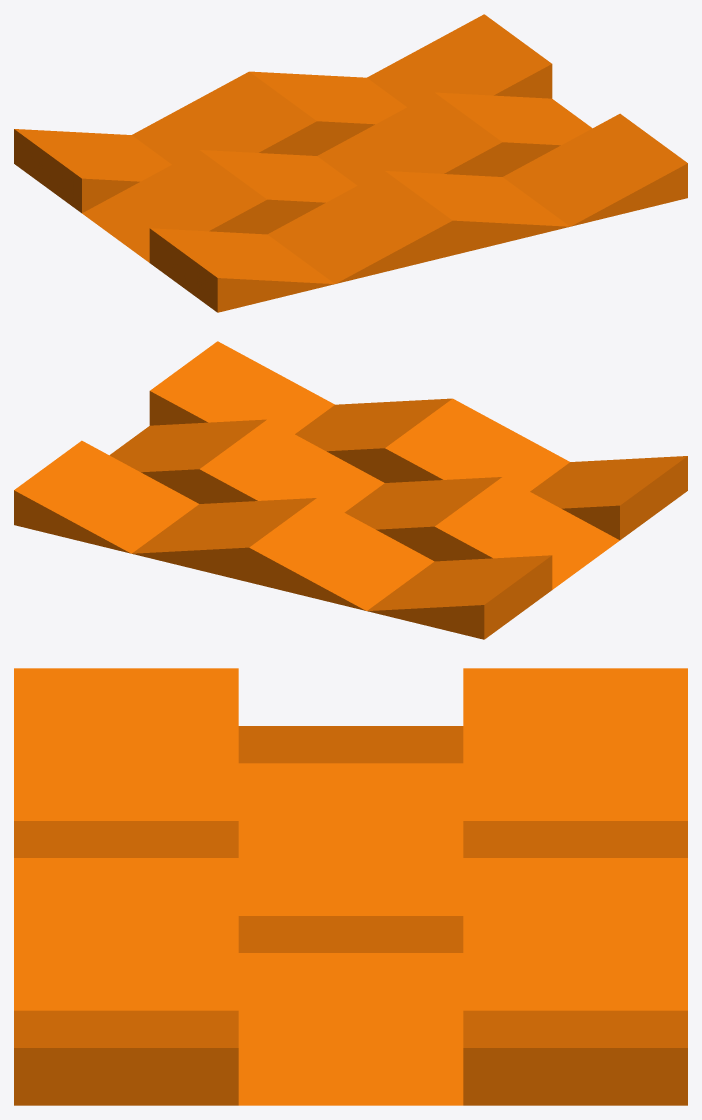
The model's file is TerrainA.dae.
The picture shows the model from 3 angles, top to bottom: view 1: azimuth 30°, elevation 25°; view 2: azimuth 150°, elevation 25°; view 3: azimuth 270°, elevation 25°; orthographic projection. The views are drawn at different scales.
Visible parts, largest first — view 1: SketchUp; view 2: SketchUp; view 3: SketchUp.
Boxes of the visible parts, left/top/right/bottom form: SketchUp: left=14, top=14, right=687, bottom=312; SketchUp: left=14, top=341, right=687, bottom=639; SketchUp: left=14, top=668, right=687, bottom=1105.
Size of the model in its own units: 189 by 142 by 13.39.
